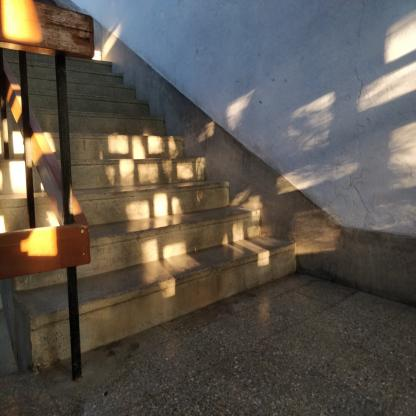stairs: (97, 168, 205, 366)
